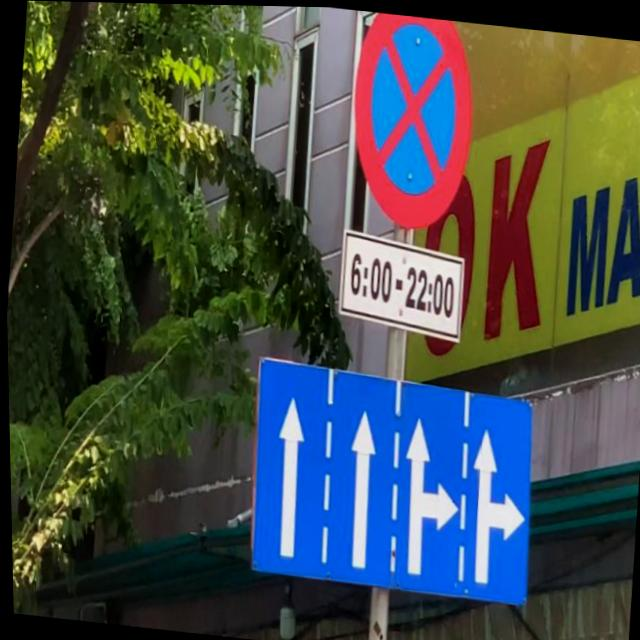Cam dung xe va do xe: (341, 8, 480, 233)
